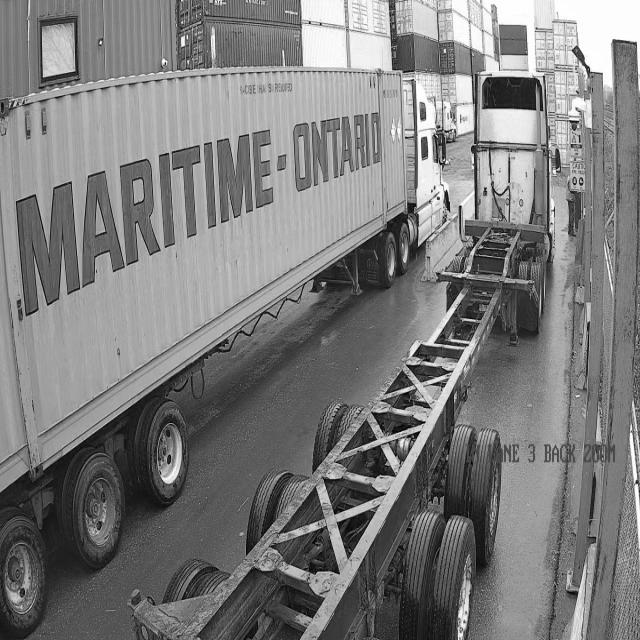container_company_logo: (0, 105, 290, 339)
truck_with_container: (0, 29, 465, 500)
truck_without_container: (130, 71, 560, 639)
